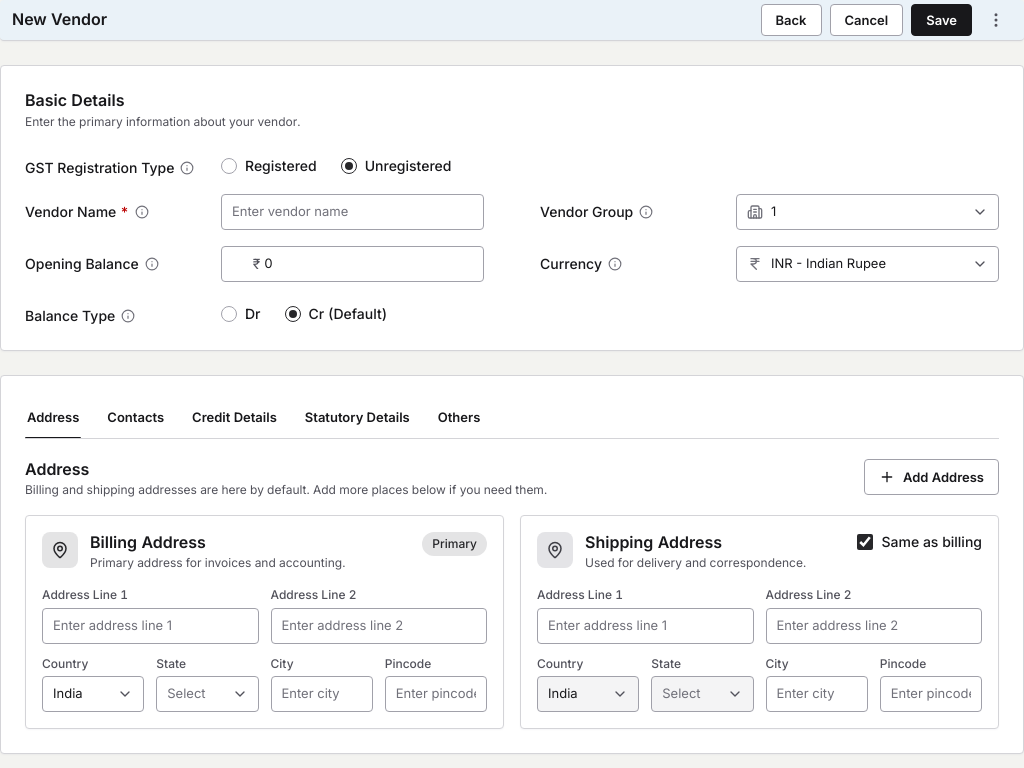
Test: what is genuinely different › keeps only PAN, GST and MSME details in the vendor statutory section
Click the tab "Statutory Details" at (357, 419), box x1=303 y1=400 x2=412 y2=438
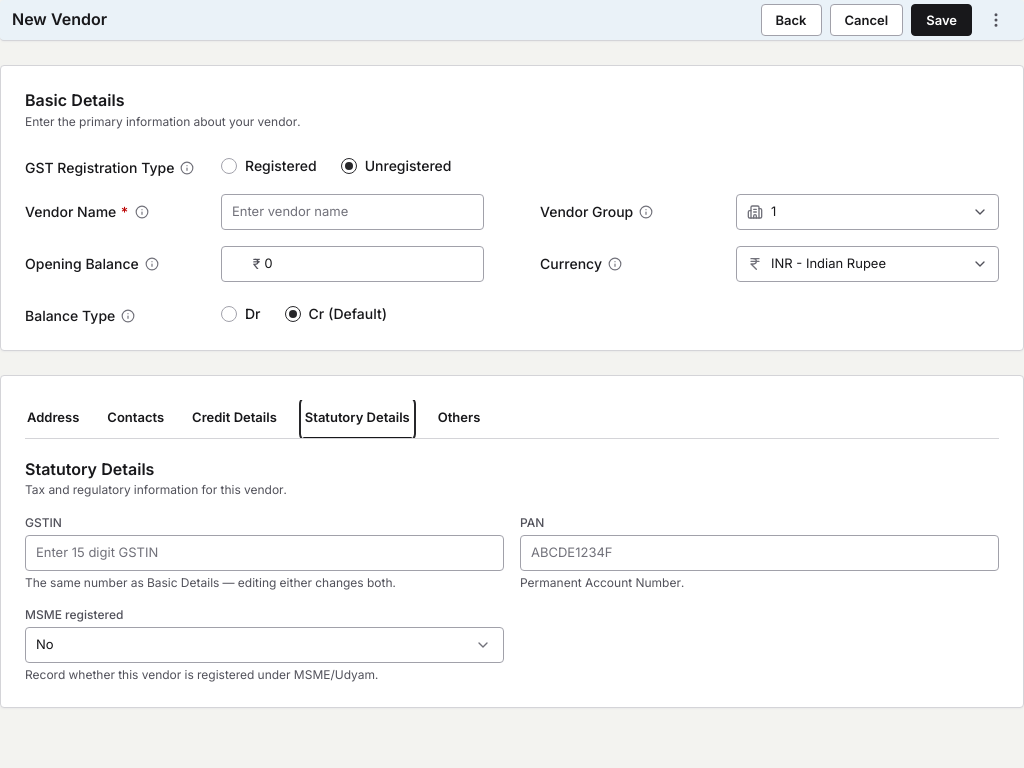
Result: the field labelled "GSTIN" is shown at x1=25 y1=535 x2=504 y2=571
Result: the field labelled "PAN" is shown at x1=520 y1=535 x2=999 y2=571
Result: the dropdown labelled "MSME registered" shows "No"
Select "Yes" in the dropdown labelled "MSME registered" at (264, 645), box x1=25 y1=627 x2=504 y2=663
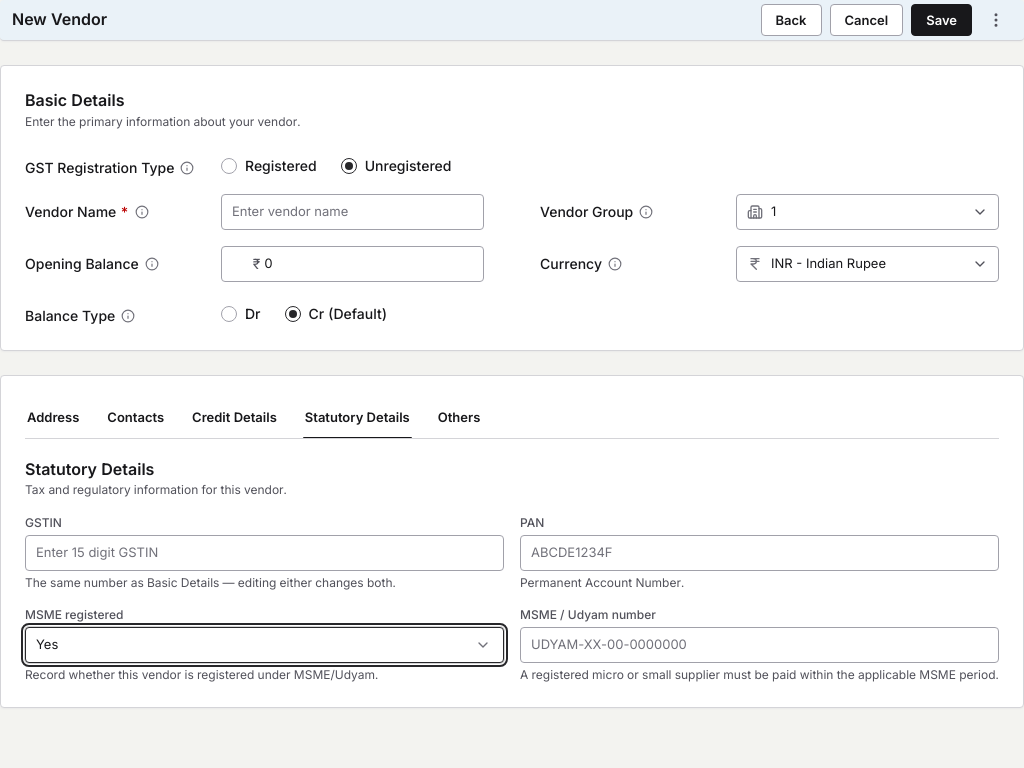
Type "udyam-ka-01-1234567" into the field labelled "MSME / Udyam number" at (760, 645), box x1=520 y1=627 x2=999 y2=663
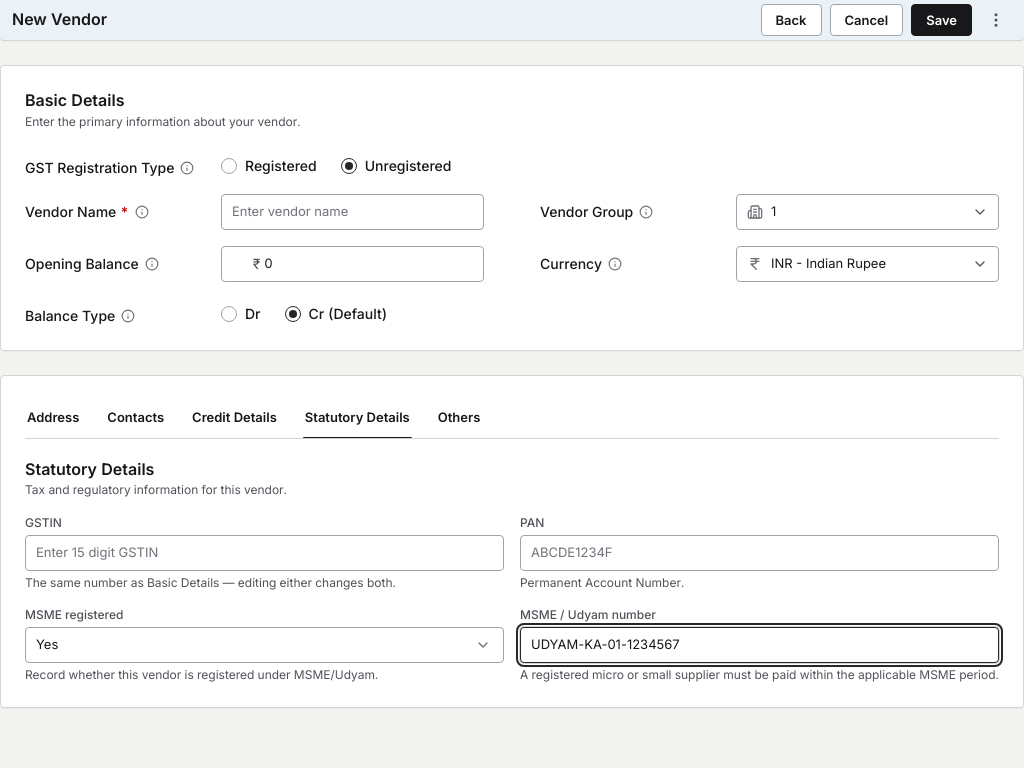
Select "No" in the dropdown labelled "MSME registered" at (264, 645), box x1=25 y1=627 x2=504 y2=663
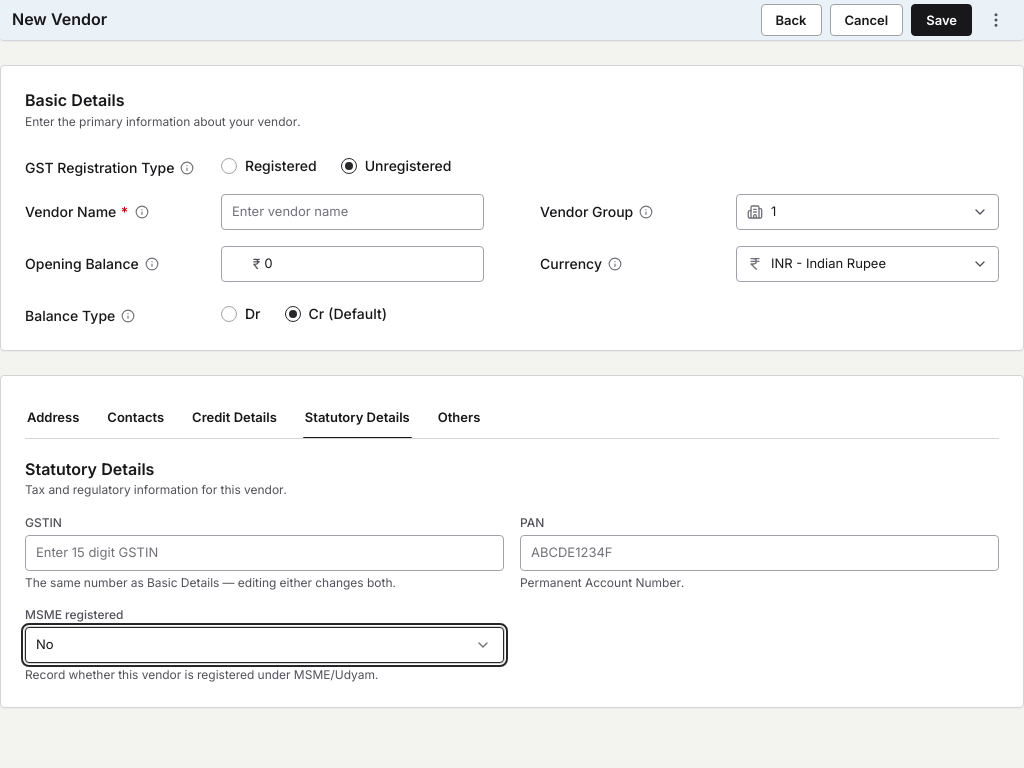
Result: the label labelled "MSME / Udyam number" is gone
